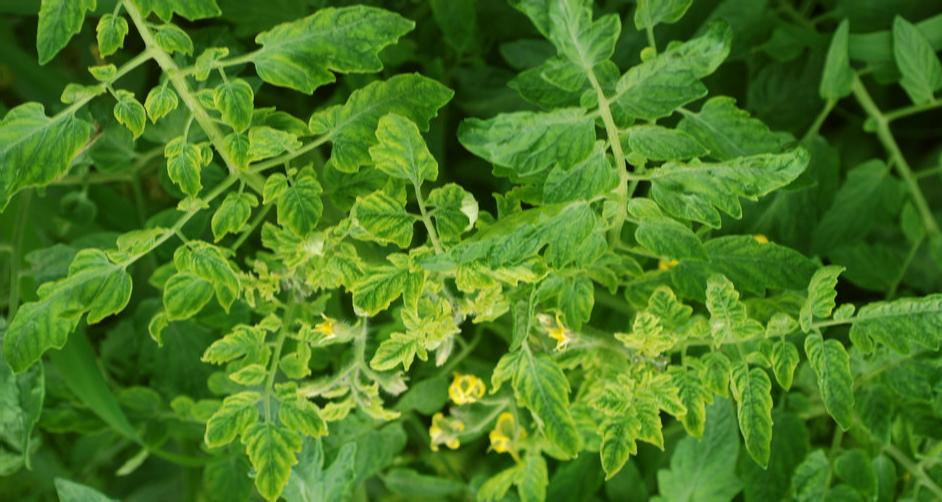Tomato leaf yellow virus: (3, 244, 125, 380), (306, 73, 459, 180), (251, 3, 421, 89), (449, 188, 605, 281), (0, 97, 86, 220), (616, 24, 731, 115), (459, 106, 601, 175), (511, 347, 580, 461), (849, 285, 942, 357), (236, 415, 312, 502), (620, 274, 690, 360), (259, 160, 331, 242), (728, 364, 778, 475), (368, 108, 440, 182), (354, 247, 423, 320), (202, 381, 272, 451), (628, 213, 714, 265), (347, 188, 417, 250), (590, 402, 641, 484), (175, 233, 241, 295), (791, 266, 848, 330), (424, 181, 477, 240), (696, 267, 745, 329), (200, 322, 267, 366), (104, 83, 150, 147), (207, 187, 258, 244), (554, 272, 600, 332), (216, 71, 257, 134), (161, 137, 201, 200), (365, 337, 424, 375), (94, 2, 131, 62), (143, 81, 183, 126)
